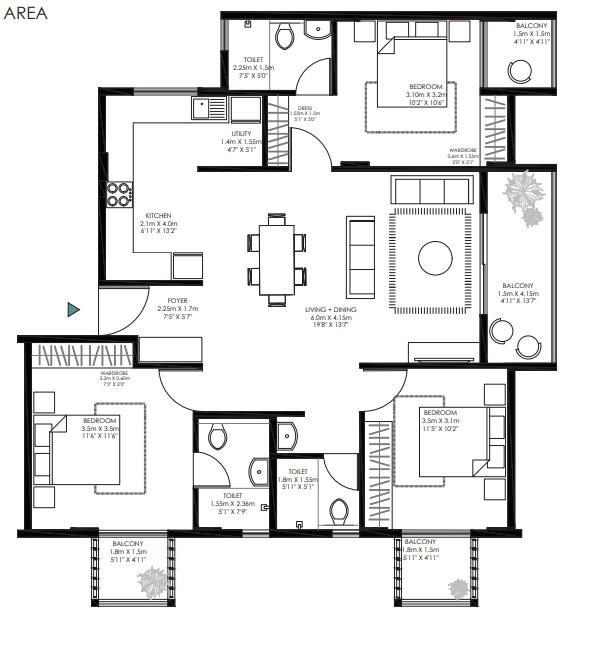Balcony: (489, 172, 549, 362), (402, 536, 473, 598), (98, 539, 168, 596), (489, 24, 549, 84)
Bedroom: (32, 367, 192, 528), (334, 23, 480, 165), (394, 370, 505, 529)
Dining Room: (199, 175, 338, 408)
Dining table: (232, 203, 318, 323)
Foyer: (101, 289, 201, 338)
Kitchen: (109, 99, 199, 280)
Living Room: (200, 170, 478, 413)
Wardrobe: (290, 97, 335, 175), (365, 421, 392, 527), (33, 344, 132, 368), (482, 97, 507, 163), (268, 94, 291, 162)
fridge: (172, 253, 205, 279)
toilet: (229, 20, 331, 91), (201, 425, 265, 529), (281, 460, 357, 532)
utility: (199, 101, 261, 171)
washing-machine: (230, 97, 261, 125)
